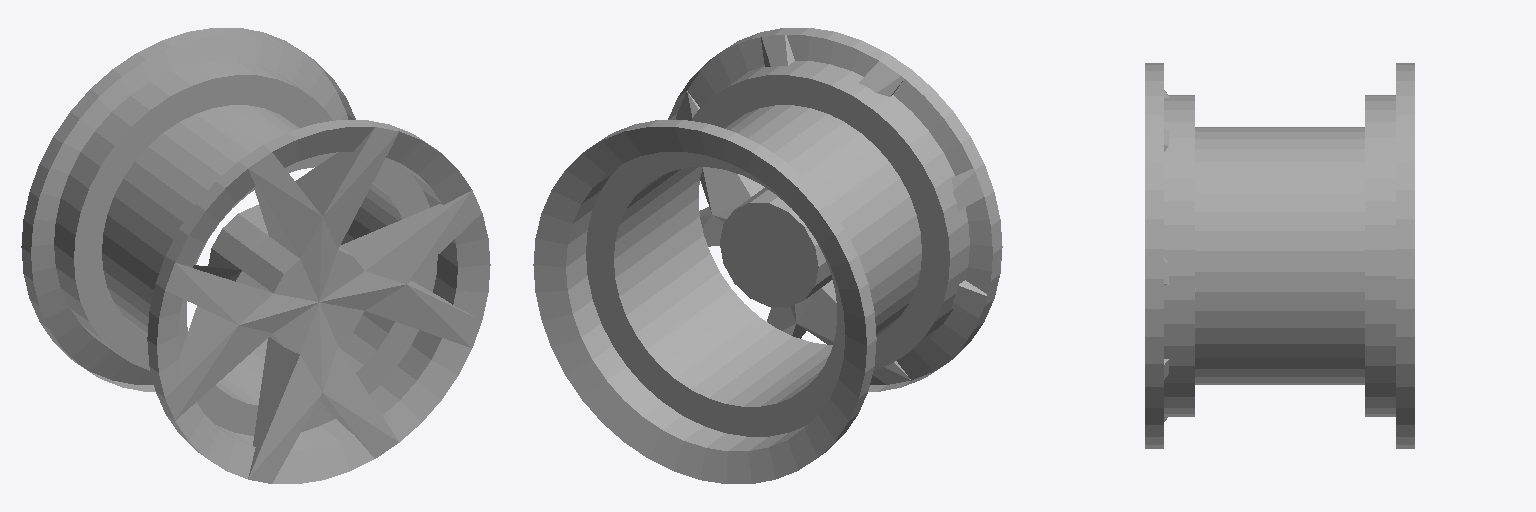
Rendered from Split.obj.
3 views of the same model, side by side, from view 1: azimuth 30°, elevation 25°; view 2: azimuth 150°, elevation 25°; view 3: azimuth 270°, elevation 25° (orthographic).
Bounding box in the file's own units: 2.02 × 2.02 × 1.42.